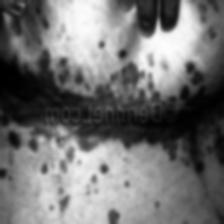Non-Cancerous Skin Condition: (0, 47, 46, 155), (184, 62, 224, 148), (106, 208, 122, 224), (196, 162, 204, 176), (100, 163, 108, 175)
